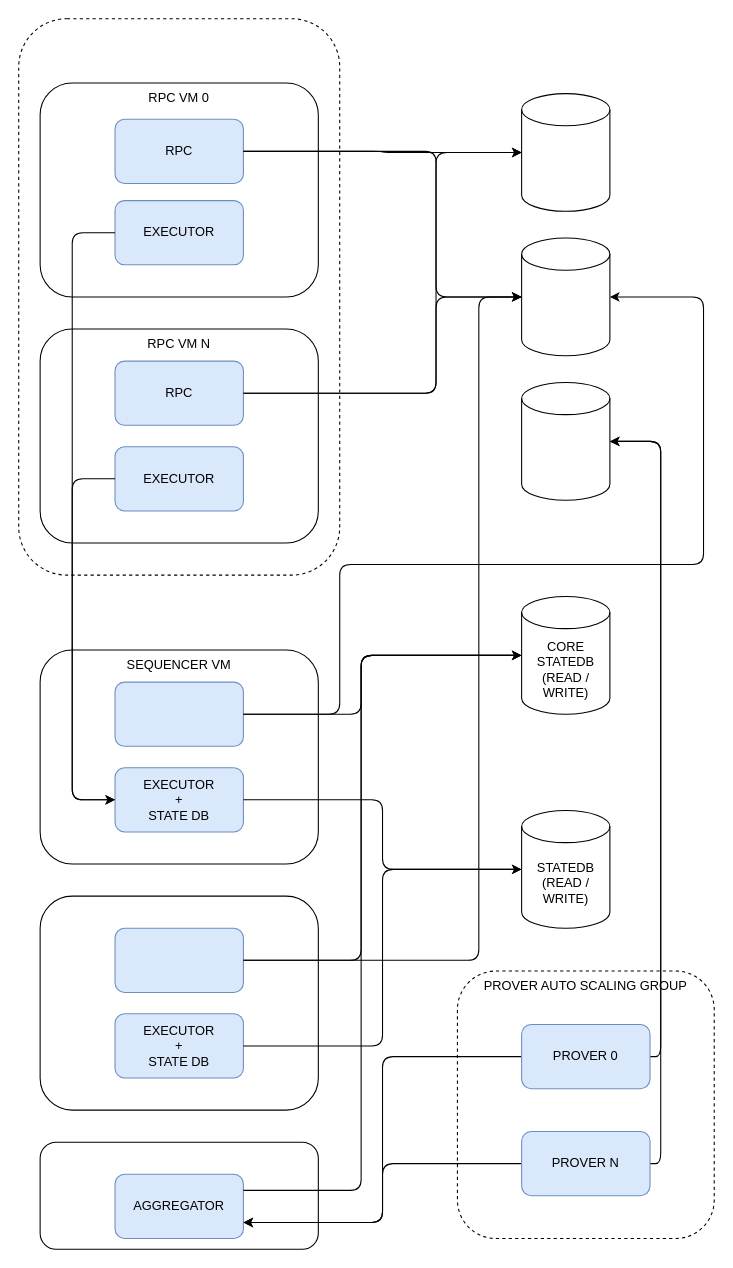
This 733x1268 diagram has some shape labels left out. The box of each missing label's shape, as (x1, y1, x2, y2) in pixels:
AGGREGATOR VM: (39, 1141, 318, 1249)
CORE STATEDB (READ ONLY): (521, 93, 610, 211)
POOL (READ / WRITE): (521, 237, 610, 356)
RPC AUTO SCALING GROUP: (18, 18, 340, 575)
SEQUENCER: (114, 681, 243, 746)
STATEDB (READ ONLY): (521, 381, 610, 500)
SYNCHRONIZER: (114, 927, 243, 992)
SYNCHRONIZER VM: (39, 895, 318, 1110)
